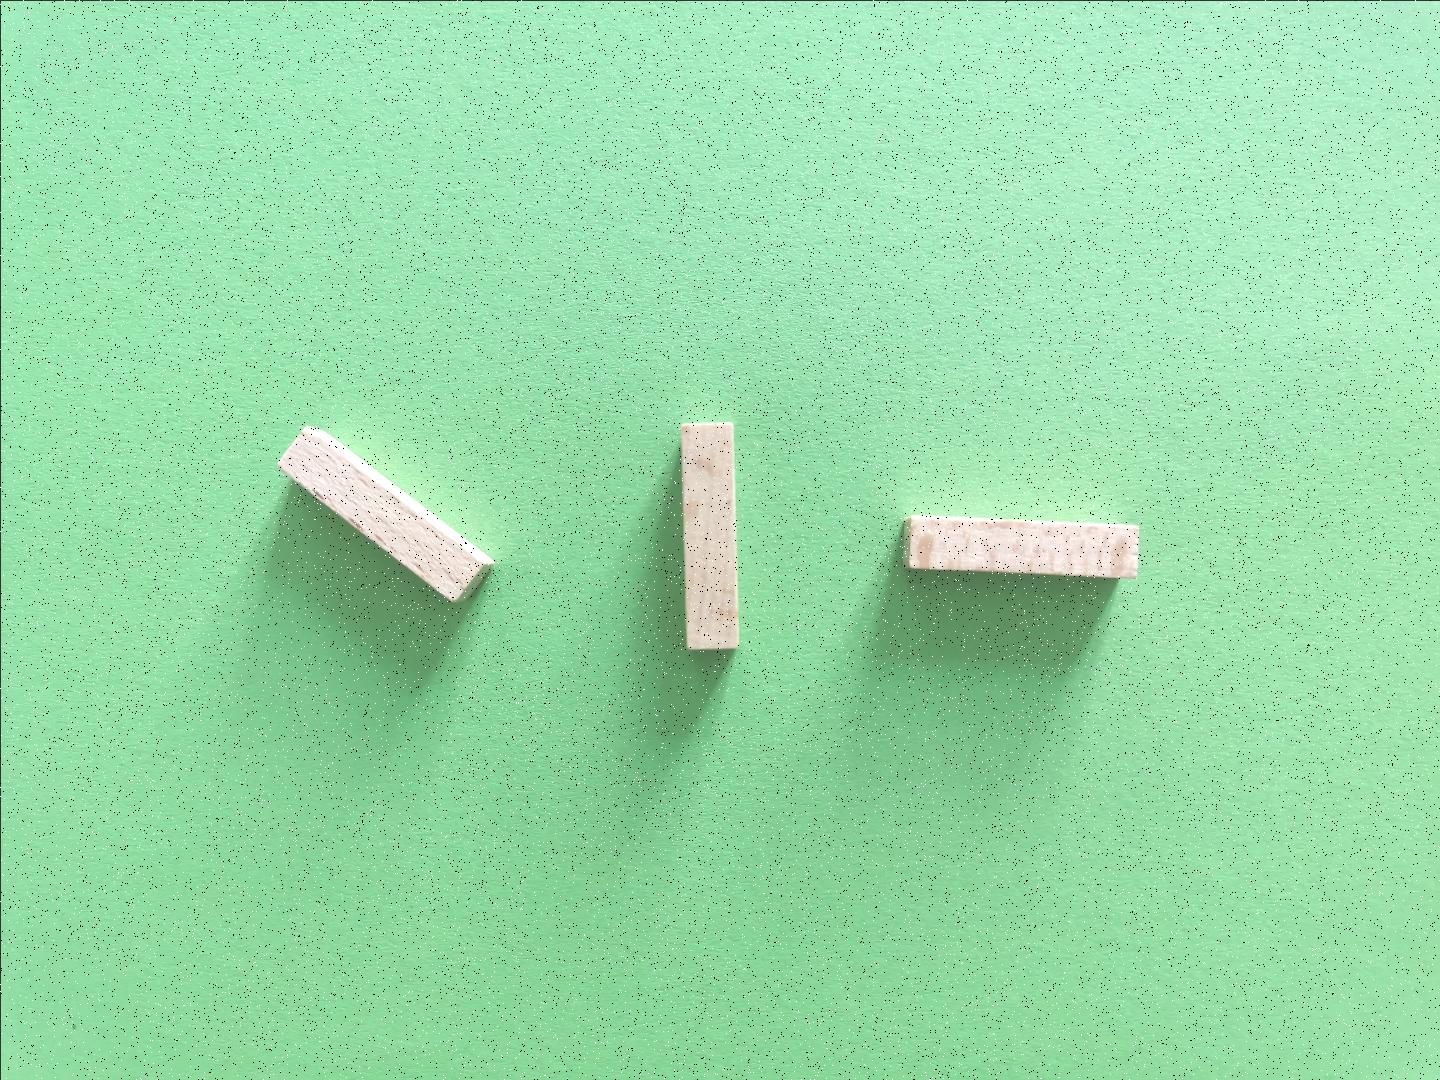jenga: (279, 424, 492, 602), (903, 515, 1140, 576), (680, 422, 737, 650)
